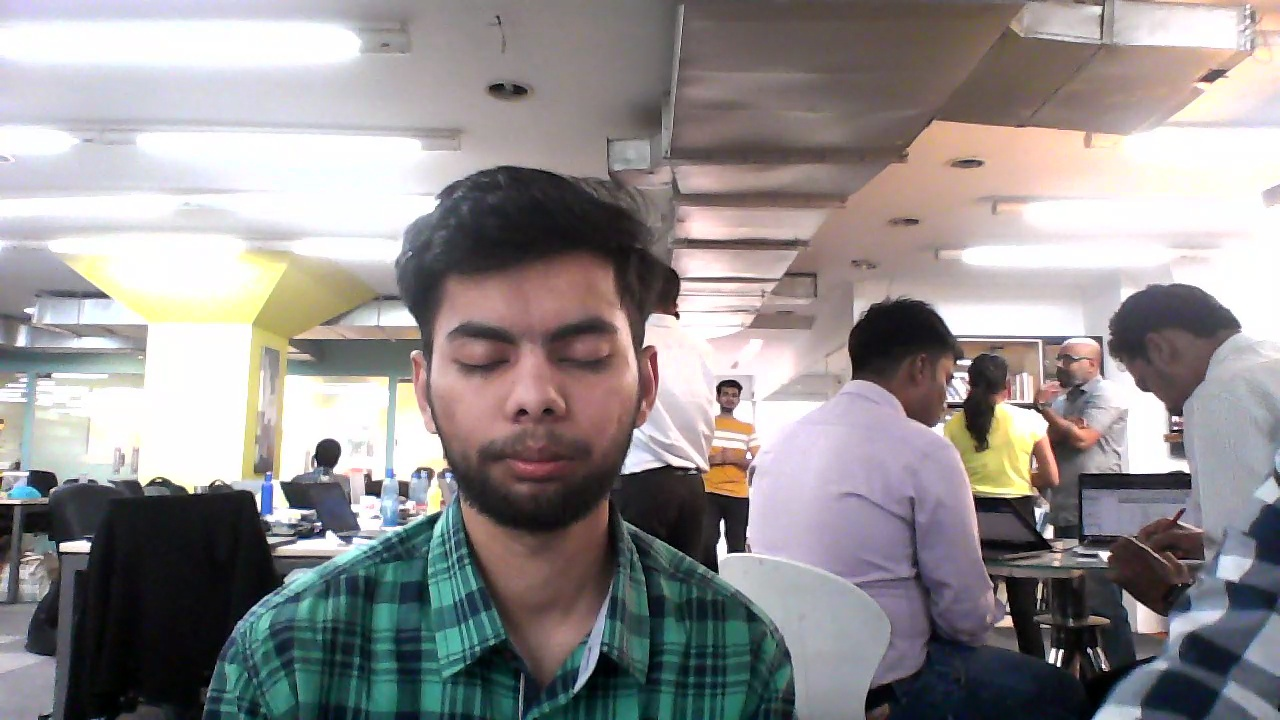closed: (398, 158, 663, 525)
